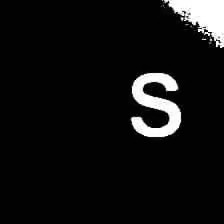LTR_S: (129, 67, 185, 140)
